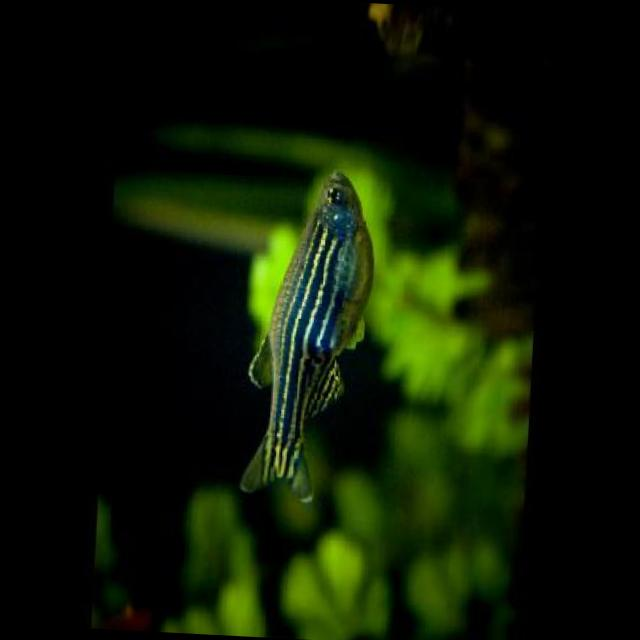ZebraFish: (238, 168, 372, 506)
